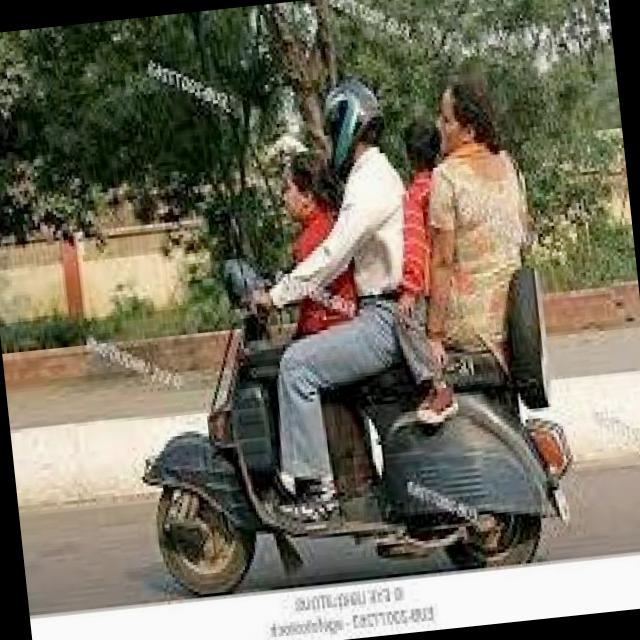motorcycle: (110, 220, 588, 608)
person: (414, 70, 564, 464), (311, 80, 447, 462), (258, 142, 388, 452), (372, 109, 490, 428)
rider_region: (101, 66, 568, 603)
